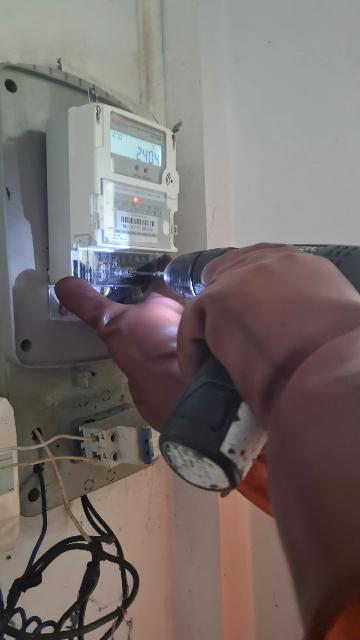gloves: (183, 259, 360, 639), (33, 247, 268, 499)
